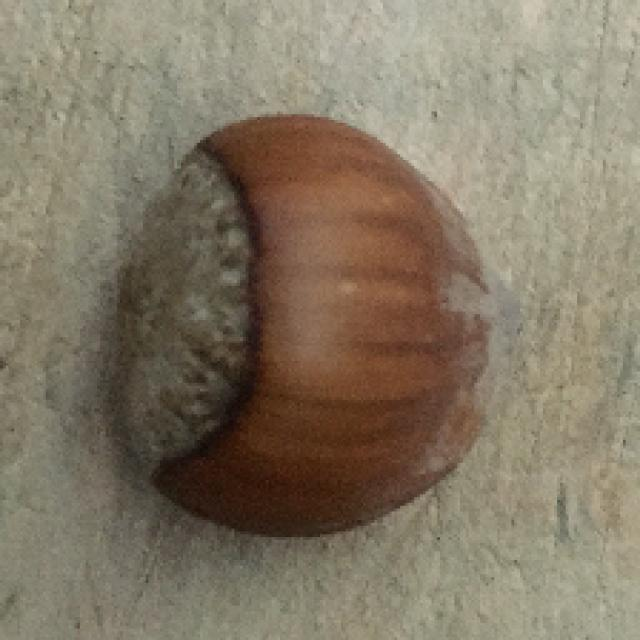qualityHazelnut: (121, 113, 498, 542)
